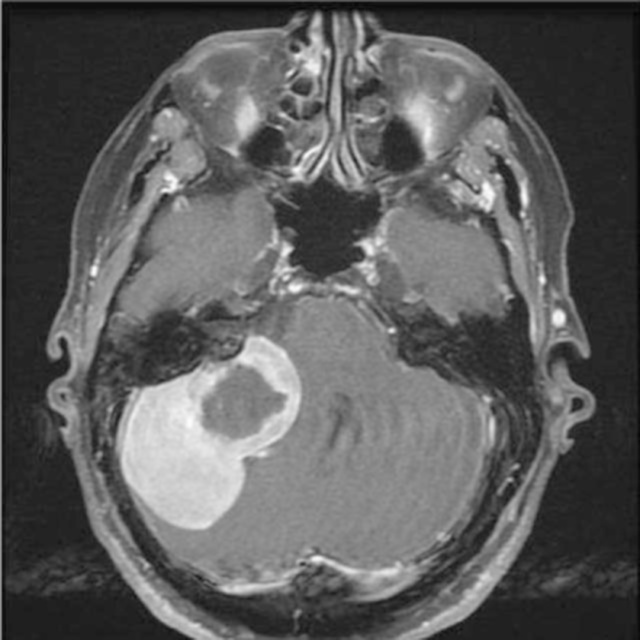meningioma tumor: (99, 336, 324, 534)
